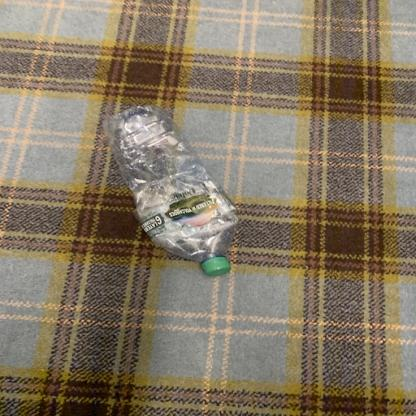trash: (97, 103, 249, 280)
